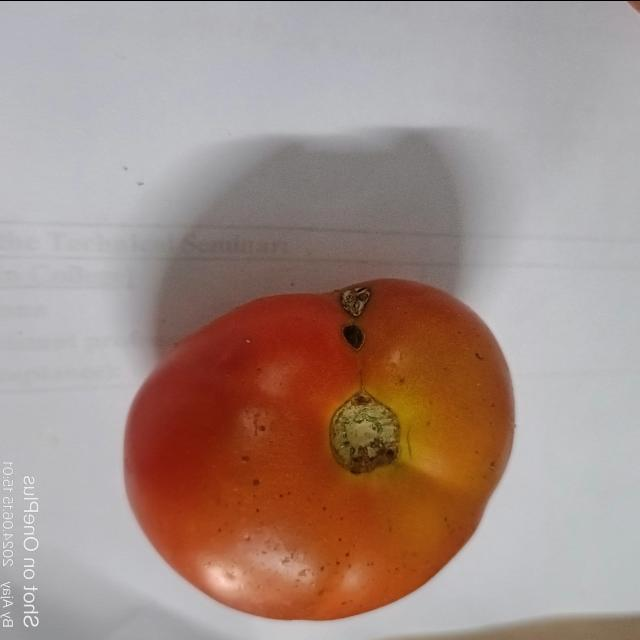fruitworm_bore: (330, 314, 372, 352)
